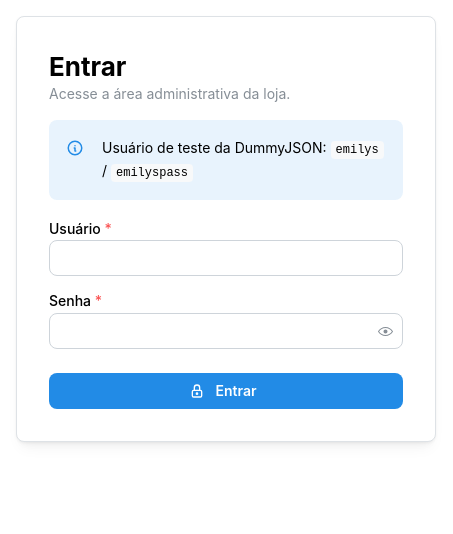
<LoginPage /> › mostra erro amigável quando as credenciais são inválidas
Type "emilys" into the field labelled "Usuário *" at (226, 258), box [49,240,403,276]
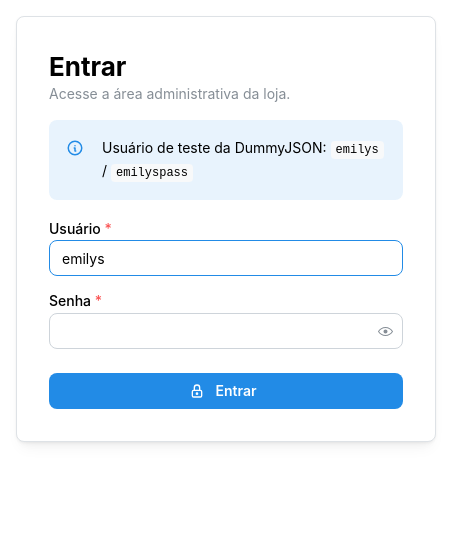
Type "errada" into the password field labelled "Senha *" at (226, 331), box [50,314,402,348]
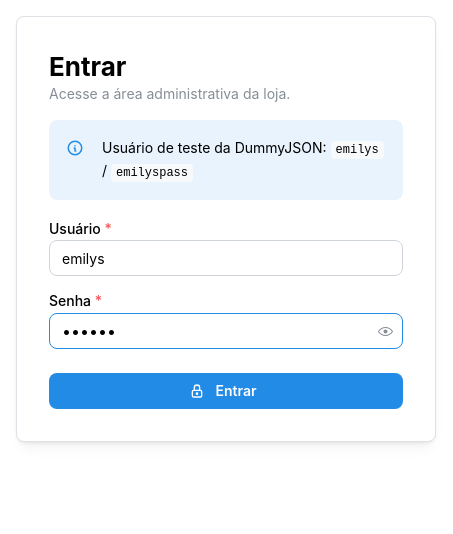
Click the button "Entrar" at (226, 391), box [49,373,403,409]
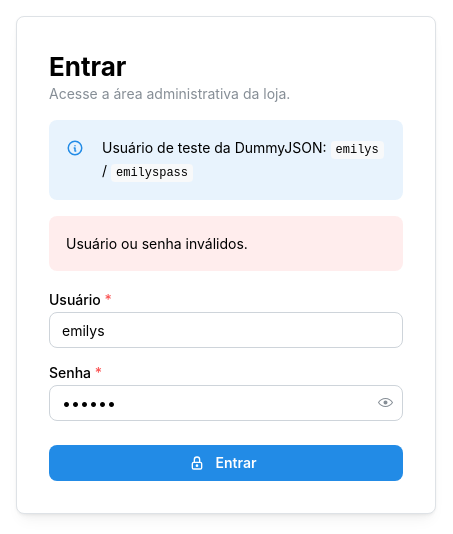
Check: the message reads "Usuário ou senha inválidos.", box [66,235,248,252]
